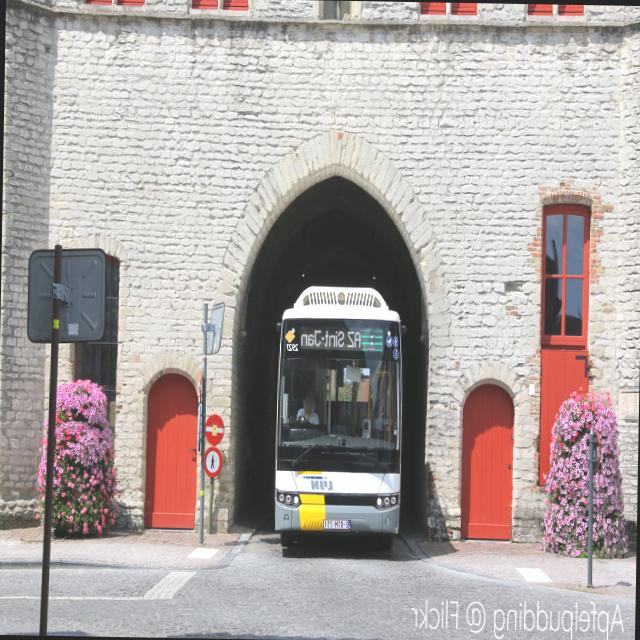bus-number: (361, 327, 382, 352)
